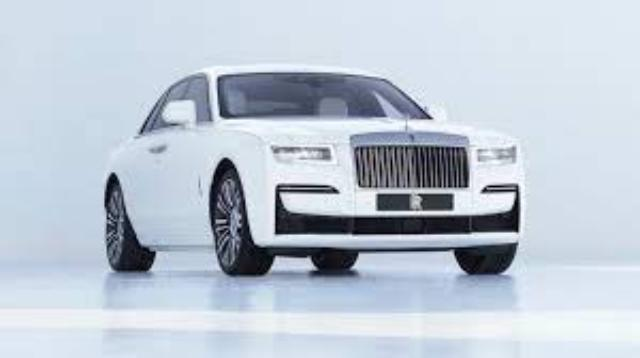rolls-royce: (103, 64, 525, 276)
